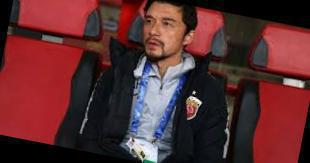Drunk: (144, 4, 183, 59)
